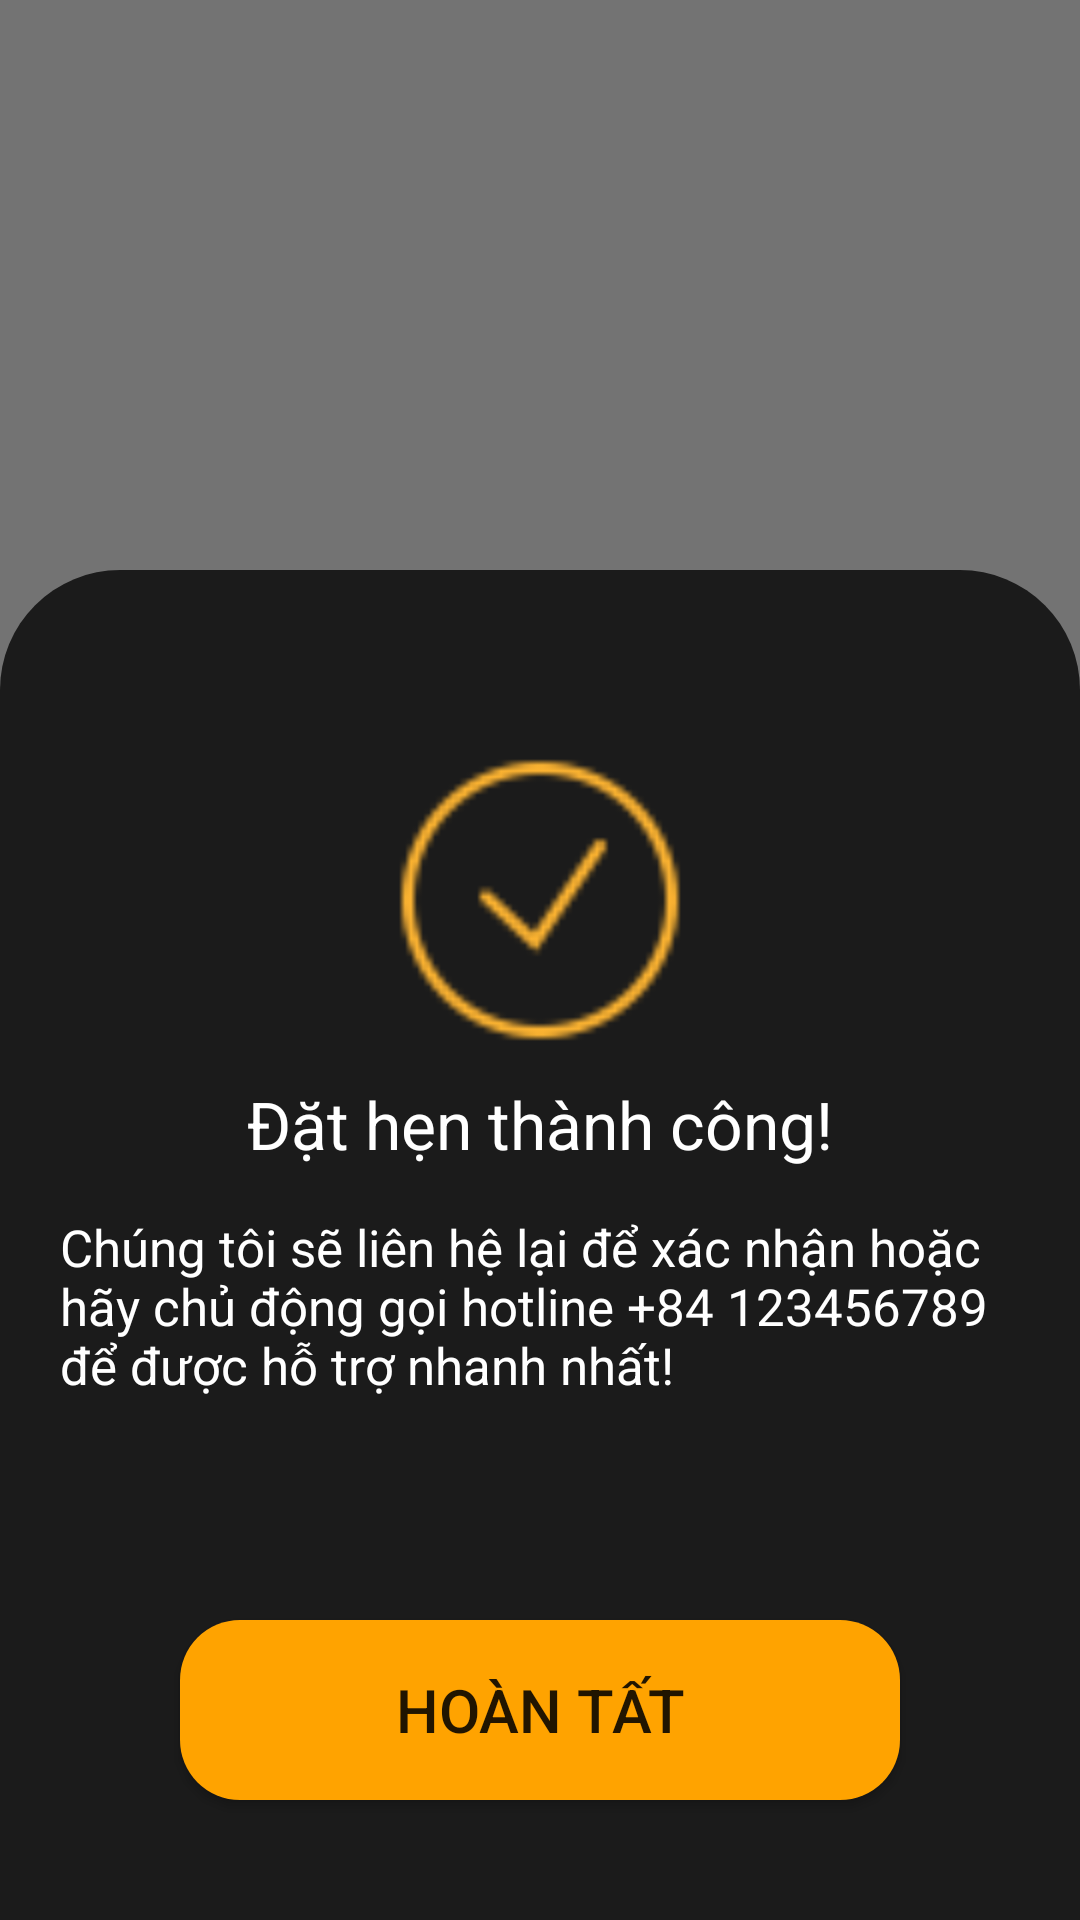

Named icons in this screenshot (1080w x 1920h) and their bounding boxes, (x1, y1, x2, y2):
payment success: (400, 760, 680, 1040)
